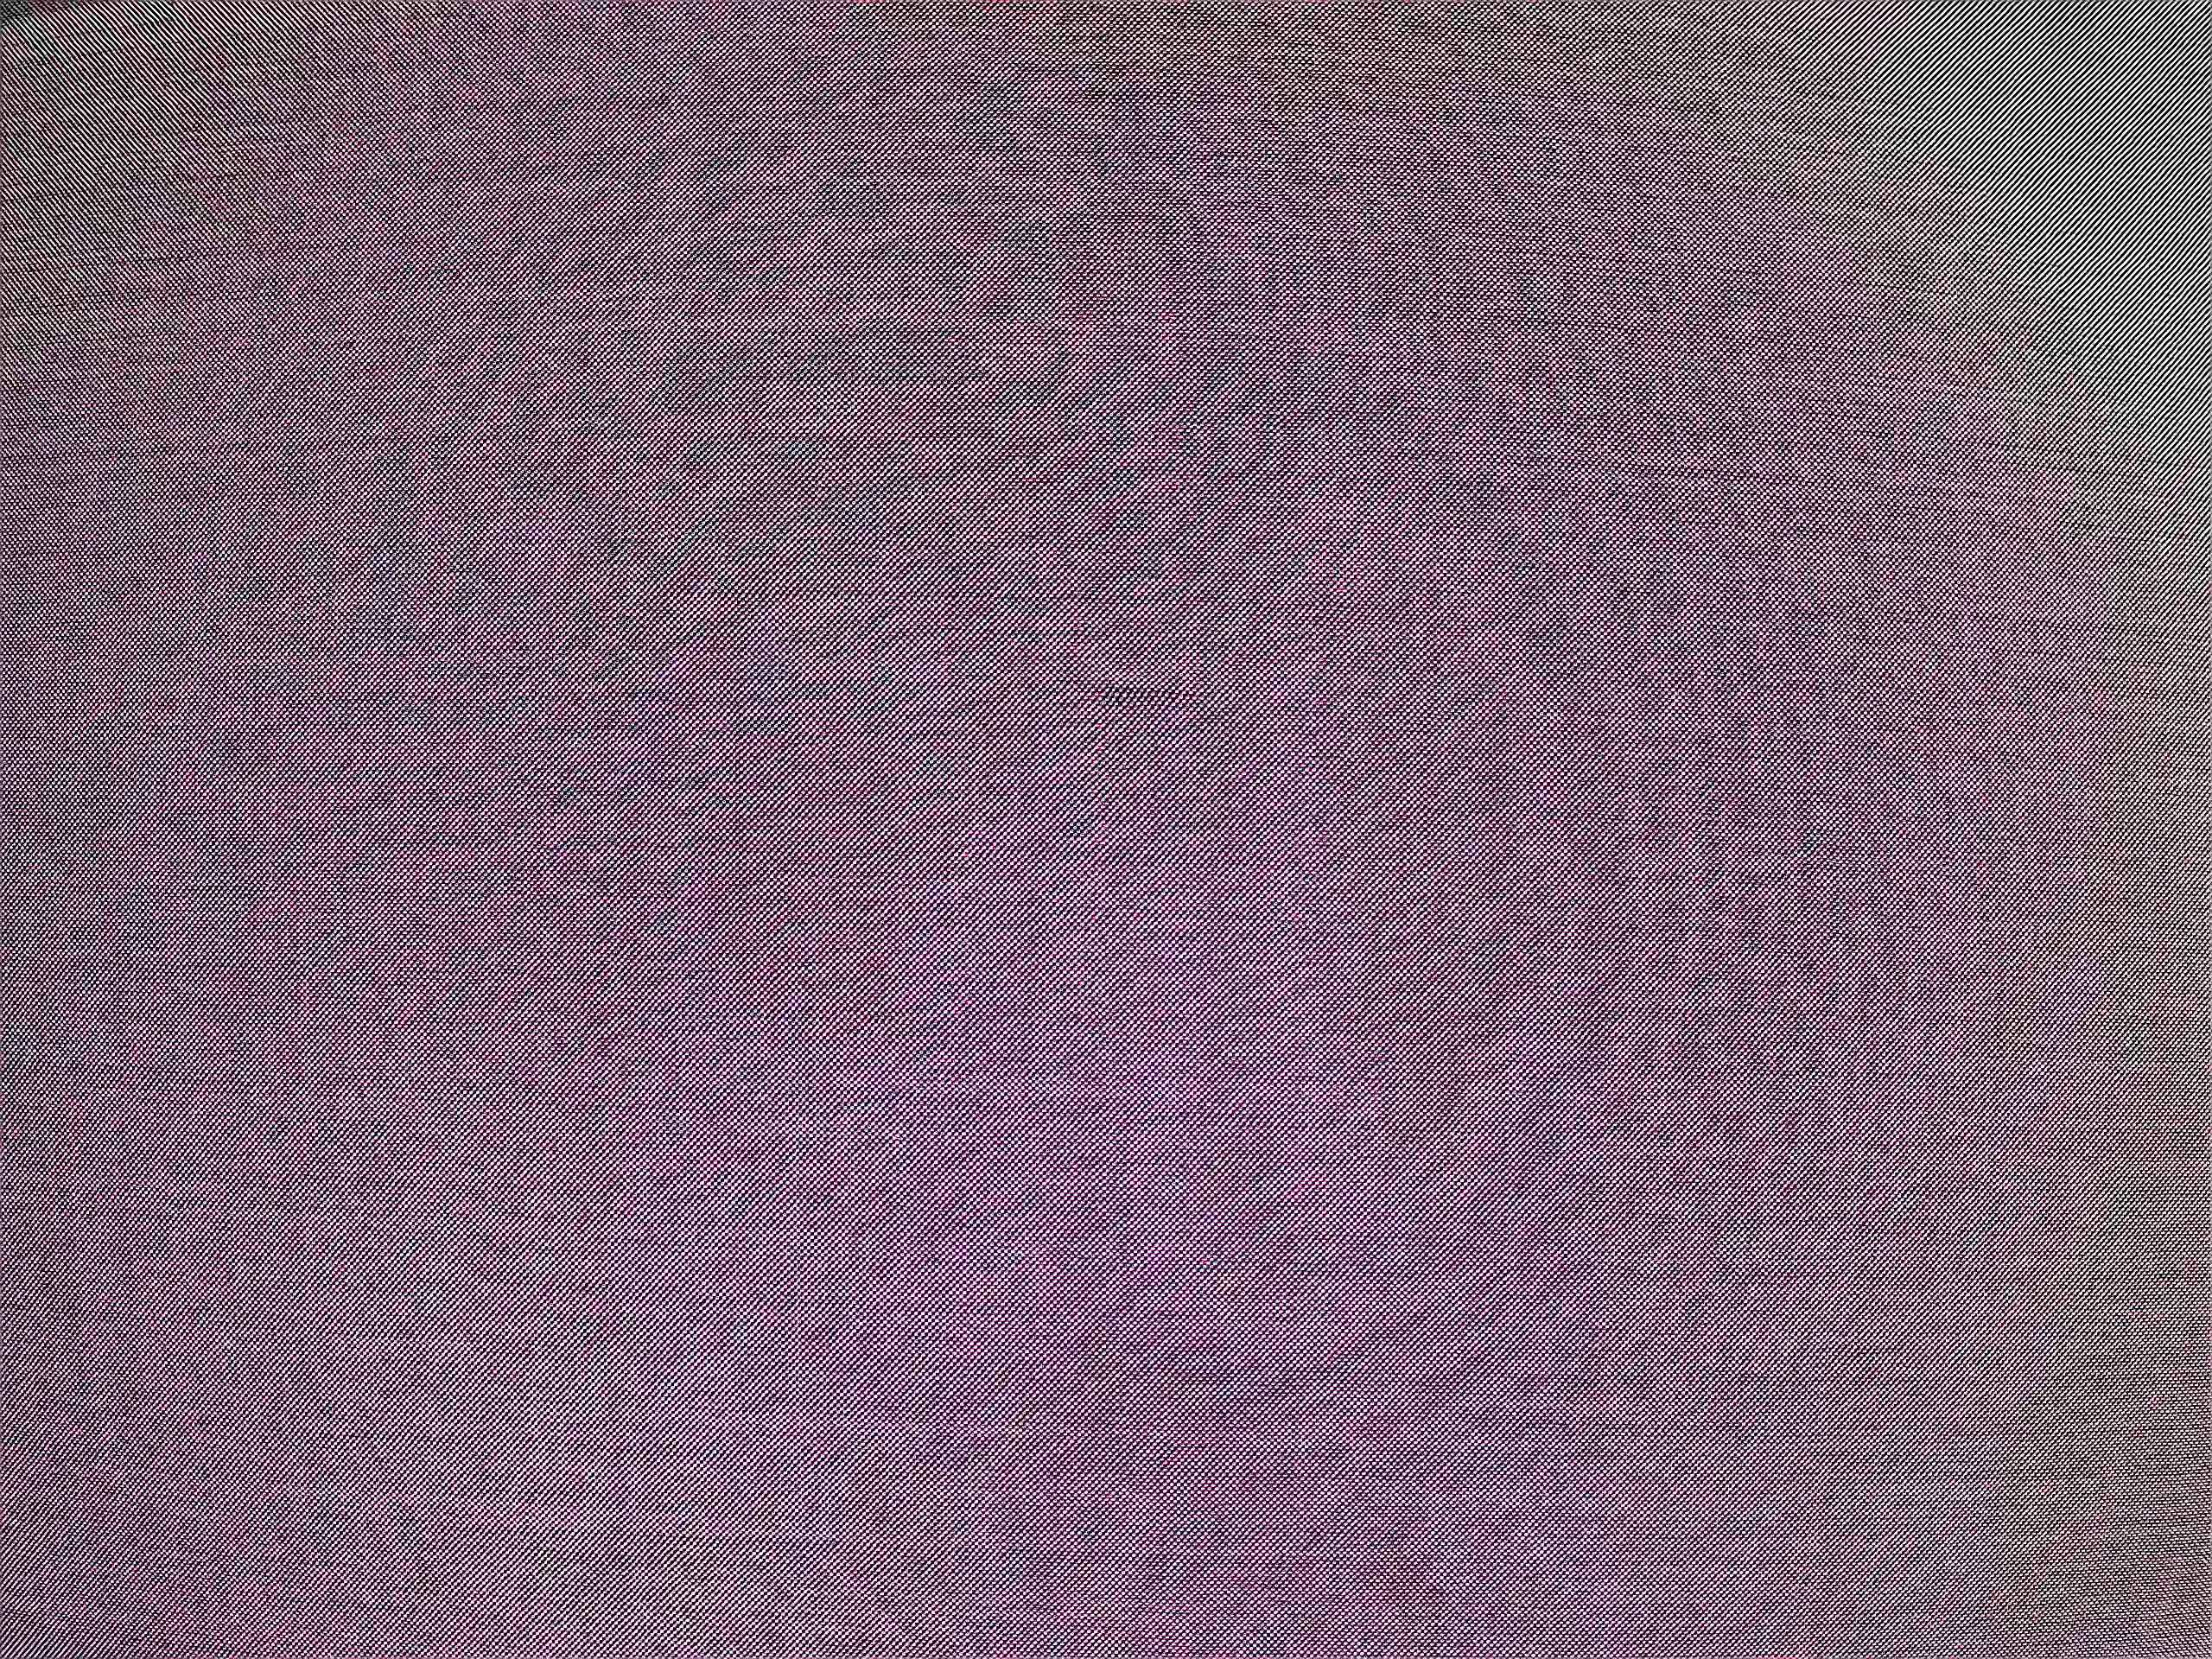thin-spinning: (1076, 671, 1238, 725)
